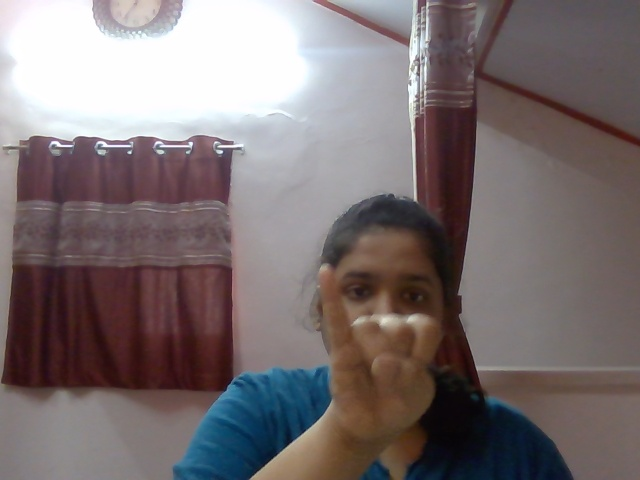i: (305, 259, 456, 432)
